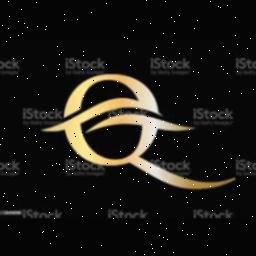q: (35, 70, 237, 194)
